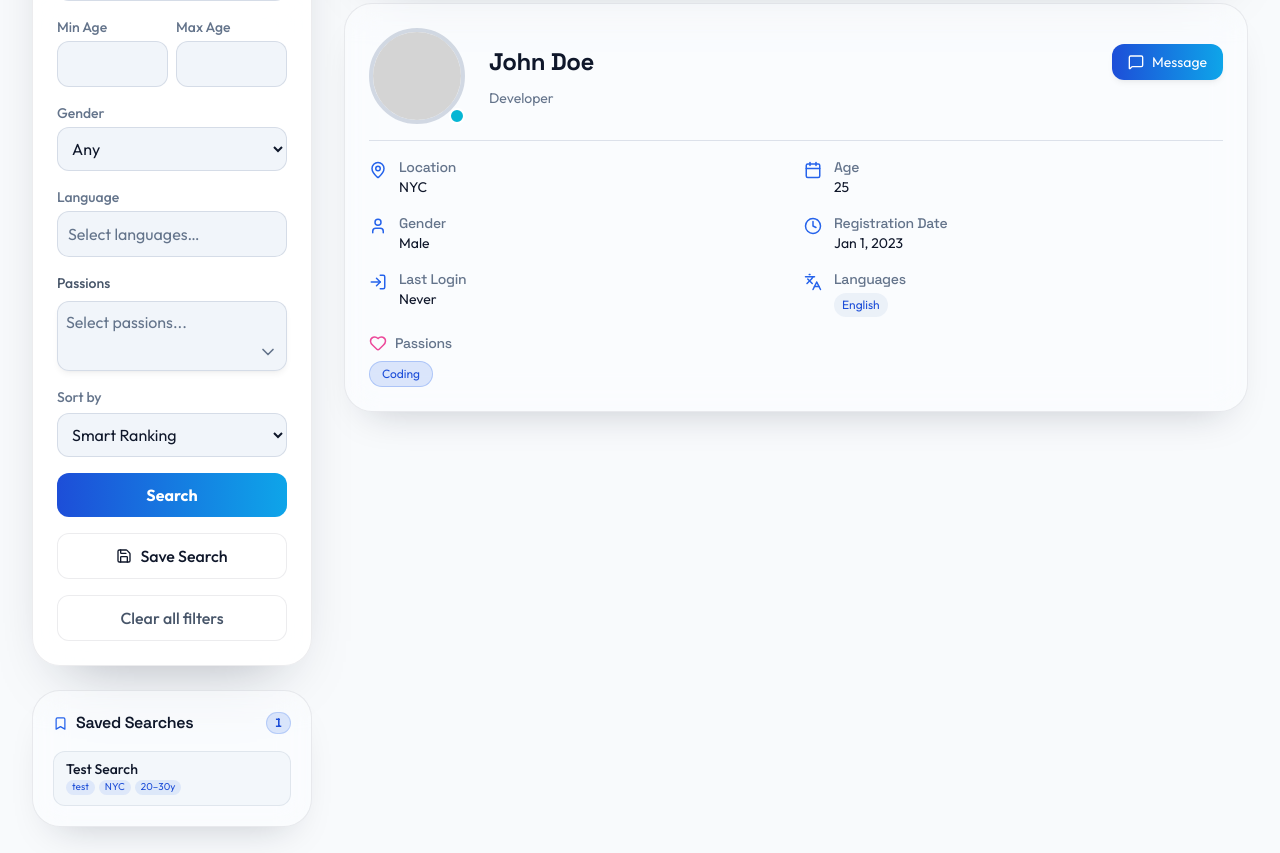
Scenario: Search Page › loads saved search
(page scrolled)
Click the text "Test Search": (102, 769) [66, 760, 138, 778]
(page scrolled)
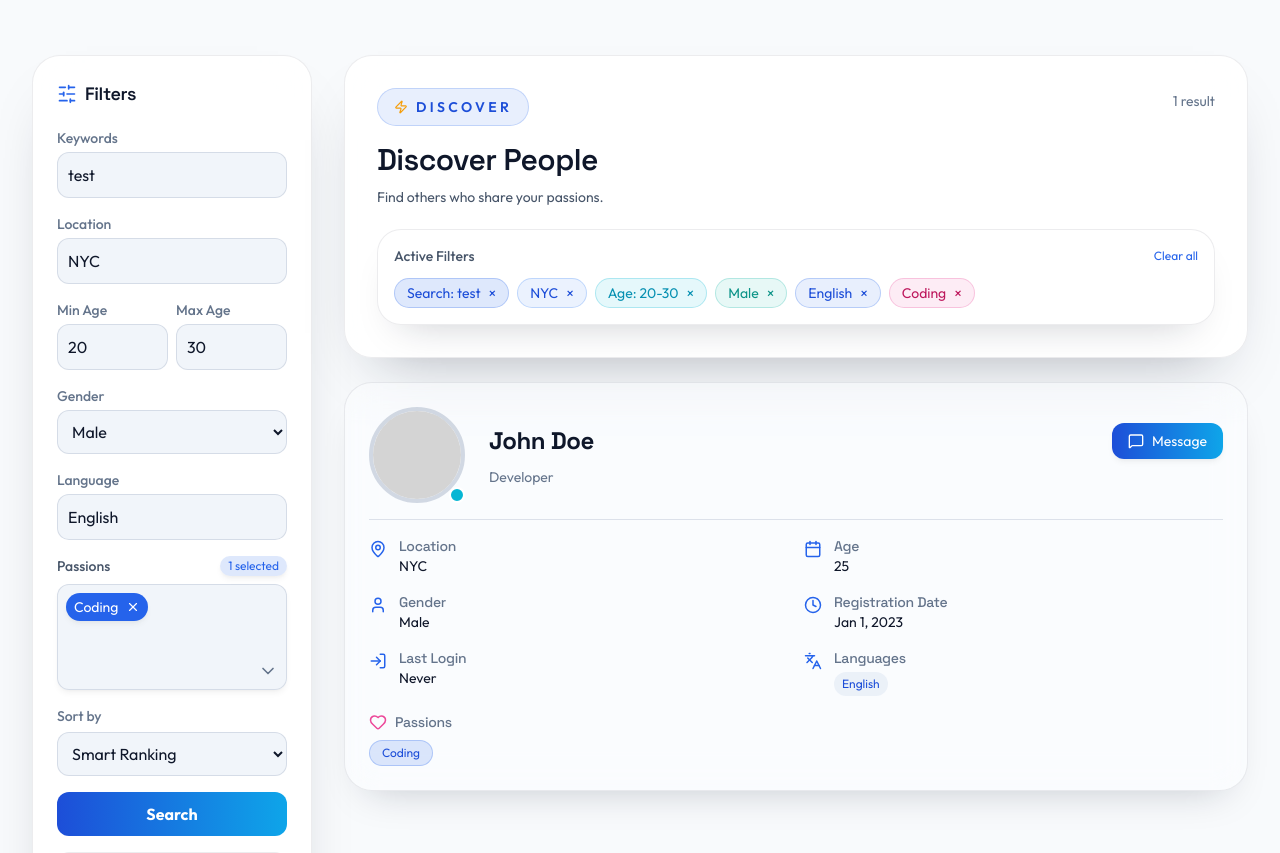
Now the field showing "test" is shown, box [57, 152, 287, 198]
